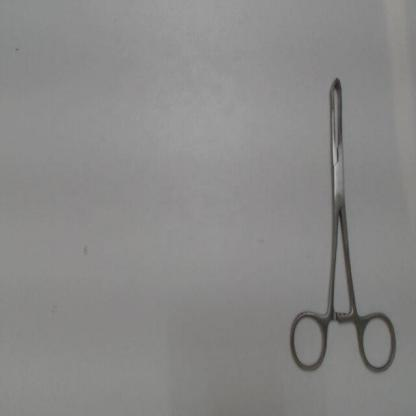Allis Tissue Forceps: (284, 68, 402, 376)
